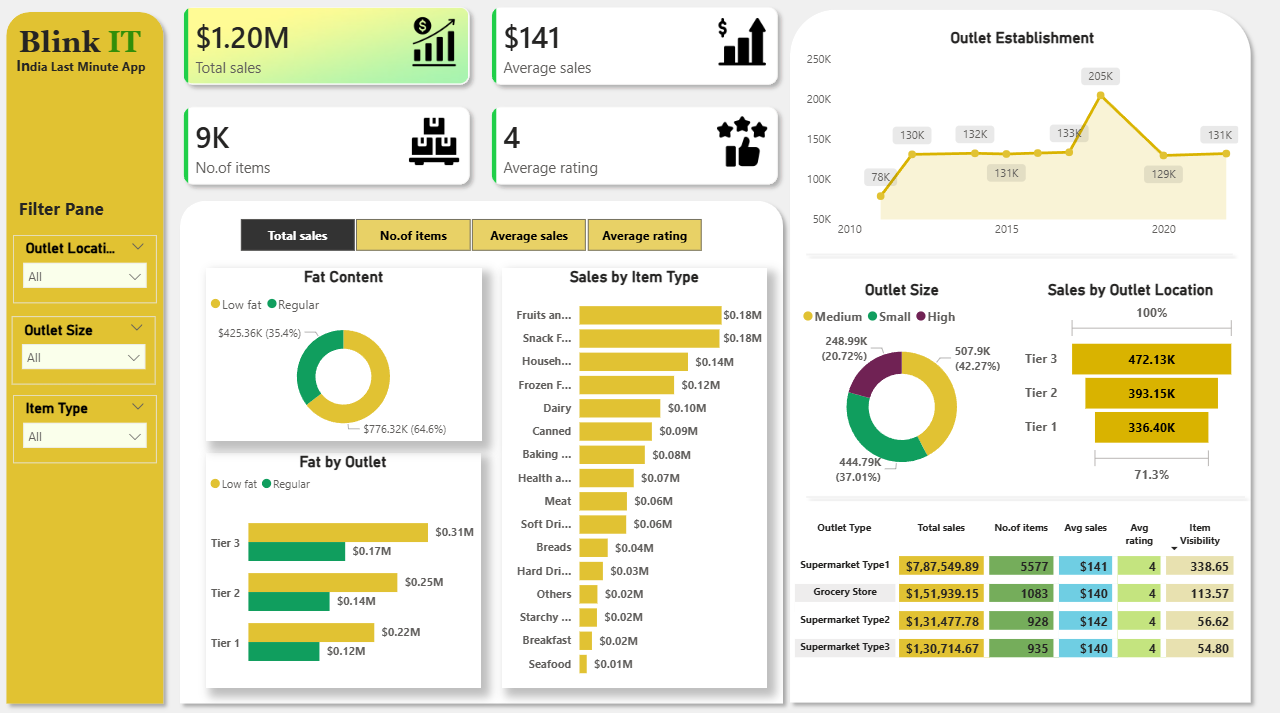

This screenshot's page, from the dashboard's own definition file:
{"tool":"powerbi","page":{"name":"Dashboard","canvas":[1400,800],"ordinal":0},"visuals":[{"type":"shape","box":[0,14.9,189.4,772.5],"z":0},{"type":"shape","box":[854.5,11.9,520.5,774],"z":1000},{"type":"shape","box":[189.3,220.3,675.8,566.3],"z":2000},{"type":"cardVisual","fields":{"Data":["BlinkIT Grocery Data.Total sales","BlinkIT Grocery Data.Average sales","BlinkIT Grocery Data.No.of items","BlinkIT Grocery Data.Average rating"]},"box":[183.4,0,686,231.1],"z":3000},{"type":"areaChart","title":" Outlet Establishment ","fields":{"Y":["Sum(BlinkIT Grocery Data.Sales)"],"Category":["BlinkIT Grocery Data.Outlet Establishment Year"]},"box":[887.3,29.8,481.7,237.1],"z":4000},{"type":"donutChart","title":" Outlet Size","fields":{"Category":["BlinkIT Grocery Data.Outlet Size"],"Y":["Sum(BlinkIT Grocery Data.Sales)"]},"box":[872.4,316.1,226.7,228.2],"z":5000},{"type":"barChart","title":" Sales by Item Type","fields":{"Y":["BlinkIT Grocery Data.Total sales"],"Category":["BlinkIT Grocery Data.Item Type"]},"box":[549.4,302.7,289,458.1],"z":6000},{"type":"clusteredBarChart","title":"Fat by Outlet","fields":{"Y":["BlinkIT Grocery Data.Total sales"],"Category":["BlinkIT Grocery Data.Outlet Location Type"],"Series":["BlinkIT Grocery Data.Item Fat Content"]},"box":[226.7,504,299.7,256.5],"z":7000},{"type":"donutChart","title":" Fat Content","fields":{"Y":["BlinkIT Grocery Data.Total sales"],"Category":["BlinkIT Grocery Data.Item Fat Content"]},"box":[226.7,302.7,301.2,189.4],"z":8000},{"type":"slicer","fields":{"Values":["Metrics.Metrics"]},"box":[238.1,242.5,553,48.8],"z":9000},{"type":"funnel","title":"Sales by Outlet Location ","fields":{"Category":["BlinkIT Grocery Data.Outlet Location Type"],"Y":["Sum(BlinkIT Grocery Data.Sales)"]},"box":[1115.5,316.1,240.1,228.2],"z":10000},{"type":"pivotTable","fields":{"Rows":["BlinkIT Grocery Data.Outlet Type"],"Values":["BlinkIT Grocery Data.Total sales","BlinkIT Grocery Data.No.of items","BlinkIT Grocery Data.Average sales","BlinkIT Grocery Data.Average rating","Sum(BlinkIT Grocery Data.Item Visibility)"]},"box":[864.9,572.6,493.6,171.5],"z":11000},{"type":"shape","box":[872.4,278.9,483.2,13.4],"z":12000},{"type":"textbox","box":[17.7,32.7,166.3,50.4],"z":13000},{"type":"textbox","box":[15,65.4,195,35.4],"z":14000},{"type":"slicer","fields":{"Values":["BlinkIT Grocery Data.Item Type"]},"box":[16.4,441.4,156.6,74.6],"z":15000},{"type":"shape","box":[872.4,544.3,496.6,13.4],"z":16000},{"type":"slicer","fields":{"Values":["BlinkIT Grocery Data.Outlet Location Type"]},"box":[16.4,266.9,156.6,74.6],"z":17000},{"type":"slicer","fields":{"Values":["BlinkIT Grocery Data.Outlet Size"]},"box":[14.9,356.4,156.6,74.6],"z":18000},{"type":"textbox","box":[17.7,220.3,142,37],"z":19000},{"type":"actionButton","box":[60,572.6,40.9,40.9],"z":20000}]}

Visuals, with their boxes in screenshot pixels (x1, y1, x2, y2), scaled from the page's 1400x800 canvas onto the 1280x713 screenshot:
shape: 0:13:173:702
shape: 781:11:1257:700
shape: 173:196:791:701
cardVisual - BlinkIT Grocery Data.Total sales x BlinkIT Grocery Data.Average sales: 168:0:795:206
" Outlet Establishment " areaChart: 811:27:1252:238
" Outlet Size" donutChart: 798:282:1005:485
" Sales by Item Type" barChart: 502:270:767:678
"Fat by Outlet" clusteredBarChart: 207:449:481:678
" Fat Content" donutChart: 207:270:483:439
slicer - Metrics.Metrics: 218:216:723:260
"Sales by Outlet Location " funnel: 1020:282:1239:485
pivotTable - BlinkIT Grocery Data.Outlet Type x BlinkIT Grocery Data.Total sales: 791:510:1242:663
shape: 798:249:1239:261
textbox: 16:29:168:74
textbox: 14:58:192:90
slicer - BlinkIT Grocery Data.Item Type: 15:393:158:460
shape: 798:485:1252:497
slicer - BlinkIT Grocery Data.Outlet Location Type: 15:238:158:304
slicer - BlinkIT Grocery Data.Outlet Size: 14:318:157:384
textbox: 16:196:146:229
actionButton: 55:510:92:547
